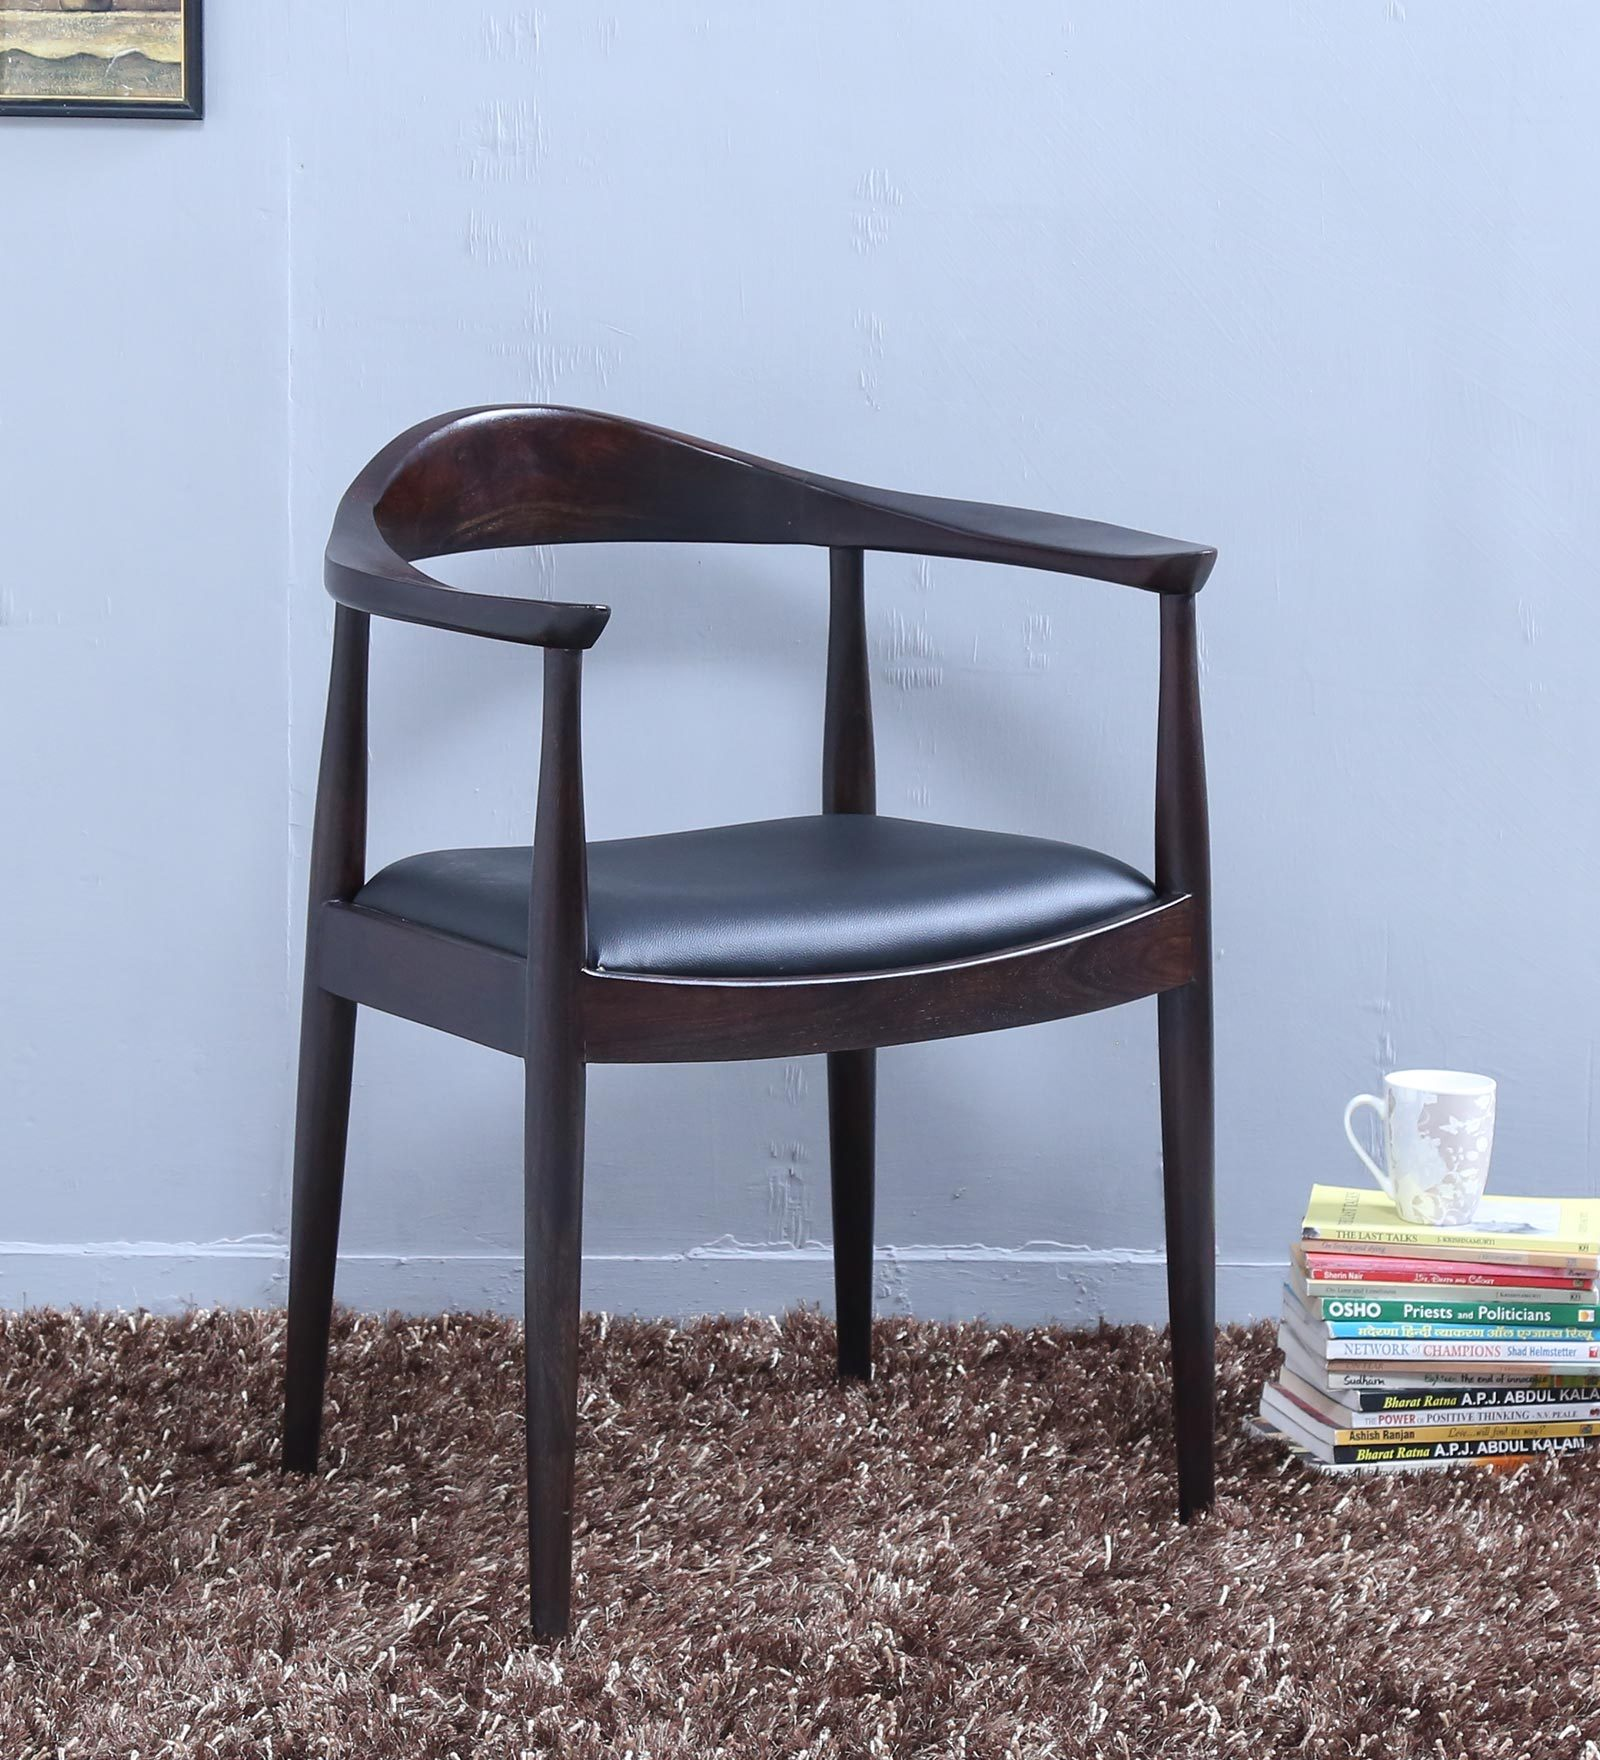Esvelt Arm Chair in Warm Chestnut Finish by Woodsworth: (264, 389, 1263, 1647)
